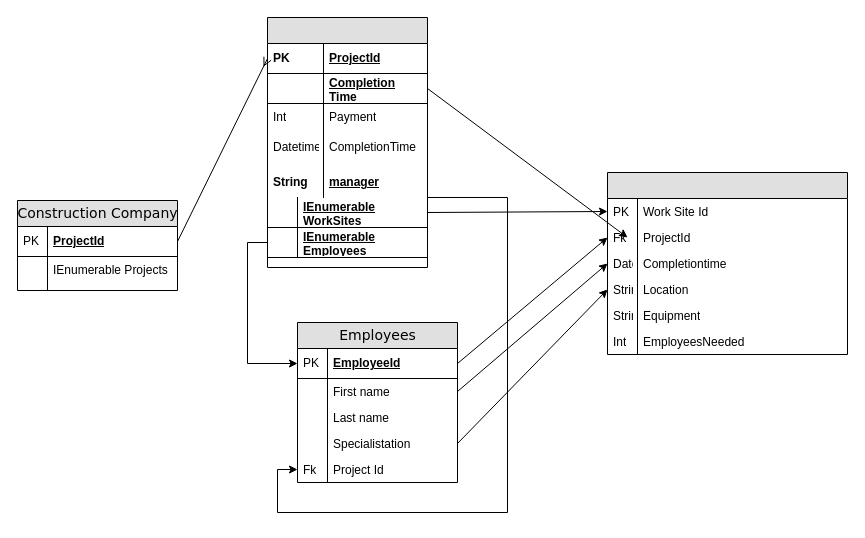
Some shapes in this 865 by 538 pixel diagram are drawn without their labels. Each missing label, with the box of its shape:
Projects: (266, 16, 428, 268)
work sites: (606, 172, 848, 354)
